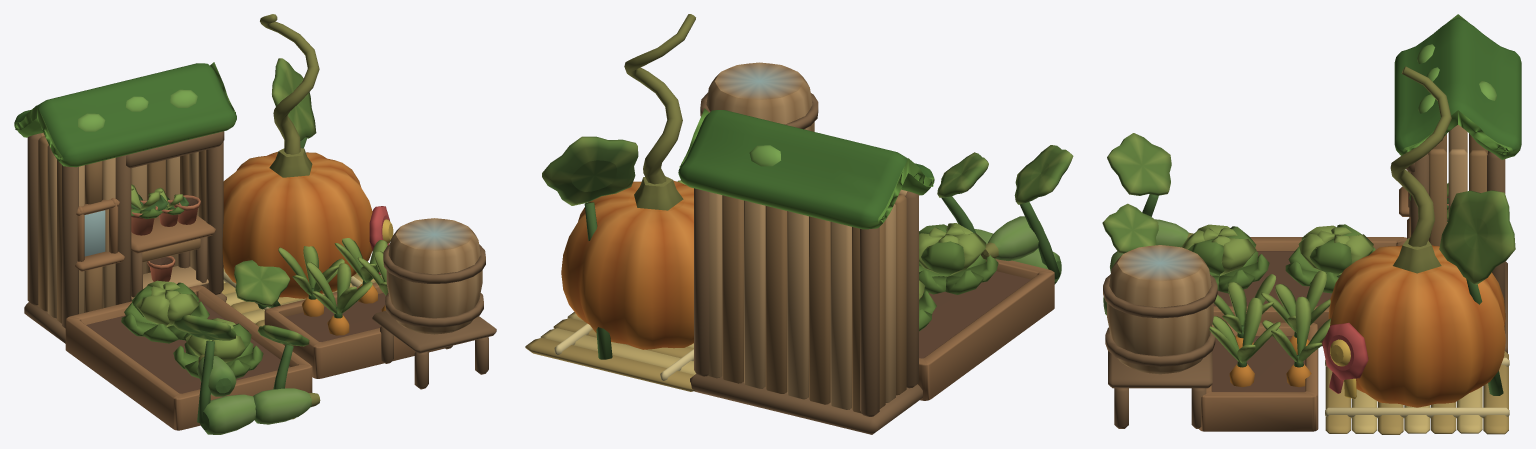
Rendered from PRD_Vegetable_Garden_A_T3.fbx.
3 renders of one model, left to right at view 1: azimuth 30°, elevation 25°; view 2: azimuth 150°, elevation 25°; view 3: azimuth 270°, elevation 25°, orthographic. The views are drawn at different scales.
Parts seen in each view (by area): view 1: PRD_Vegetable_Garden_A_T3_Body_LOD0, PRD_Vegetable_Garden_A_T3_CabbageBed_LOD0, PRD_Vegetable_Garden_A_T3_CarrotRowInner_LOD0, PRD_Vegetable_Garden_A_T3_CarrotRowOuter_LOD0; view 2: PRD_Vegetable_Garden_A_T3_Body_LOD0, PRD_Vegetable_Garden_A_T3_CabbageBed_LOD0; view 3: PRD_Vegetable_Garden_A_T3_Body_LOD0, PRD_Vegetable_Garden_A_T3_CabbageBed_LOD0, PRD_Vegetable_Garden_A_T3_CarrotRowOuter_LOD0, PRD_Vegetable_Garden_A_T3_CarrotRowInner_LOD0.
Part boxes in pixels (x1,y1,x2,y2): PRD_Vegetable_Garden_A_T3_Body_LOD0: [14, 14, 496, 434]; PRD_Vegetable_Garden_A_T3_CabbageBed_LOD0: [121, 280, 263, 378]; PRD_Vegetable_Garden_A_T3_CarrotRowInner_LOD0: [278, 246, 372, 313]; PRD_Vegetable_Garden_A_T3_CarrotRowOuter_LOD0: [334, 238, 388, 295]; PRD_Vegetable_Garden_A_T3_Body_LOD0: [525, 14, 1073, 434]; PRD_Vegetable_Garden_A_T3_CabbageBed_LOD0: [919, 223, 998, 331]; PRD_Vegetable_Garden_A_T3_Body_LOD0: [1102, 14, 1521, 434]; PRD_Vegetable_Garden_A_T3_CabbageBed_LOD0: [1181, 224, 1375, 293]; PRD_Vegetable_Garden_A_T3_CarrotRowOuter_LOD0: [1209, 296, 1330, 363]; PRD_Vegetable_Garden_A_T3_CarrotRowInner_LOD0: [1214, 270, 1330, 333].
Size of what is drawn, in the model's own units: 3.54 by 3.08 by 3.69.
